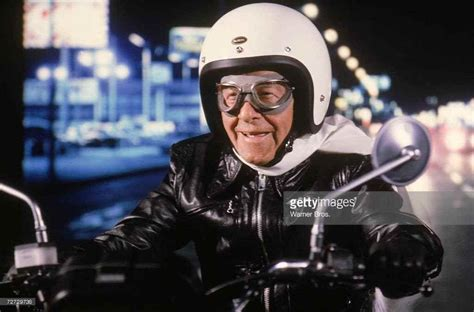com_capacete: (198, 2, 332, 170)
